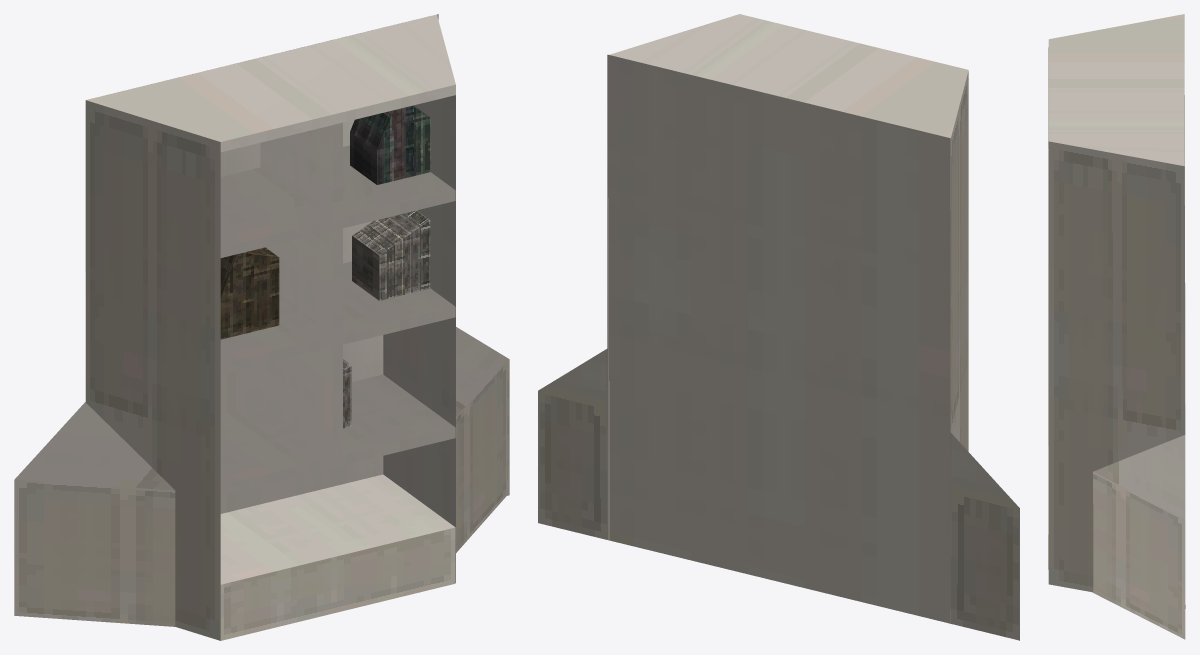
File: frn_all_eleg_bookcase_s01_l2.fbx
3 views of the same model, side by side, from view 1: azimuth 30°, elevation 25°; view 2: azimuth 150°, elevation 25°; view 3: azimuth 270°, elevation 25° (orthographic). The views are drawn at different scales.
Parts seen in each view (by area): view 1: mesh_node; view 2: mesh_node; view 3: mesh_node.
Part boxes in pixels (left/top/right/bottom): mesh_node: left=14, top=14, right=509, bottom=640; mesh_node: left=538, top=14, right=1019, bottom=640; mesh_node: left=1048, top=14, right=1185, bottom=639.
Bounding box in the file's own units: 1.87 × 1.8 × 0.5034.
Materials: 2 (2 with a texture image).
